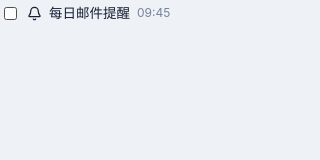
Scenario: FailureNotificationToggle › shows the requested state while saving and disables repeated clicks
Later steps or results of the test are not shown.
Click the checkbox labelled "每日邮件提醒 09:45" at (10, 14), box [4, 7, 17, 20]
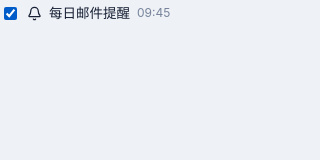
Result: the checkbox labelled "每日邮件提醒 09:45" is checked at [4, 7, 17, 20]
